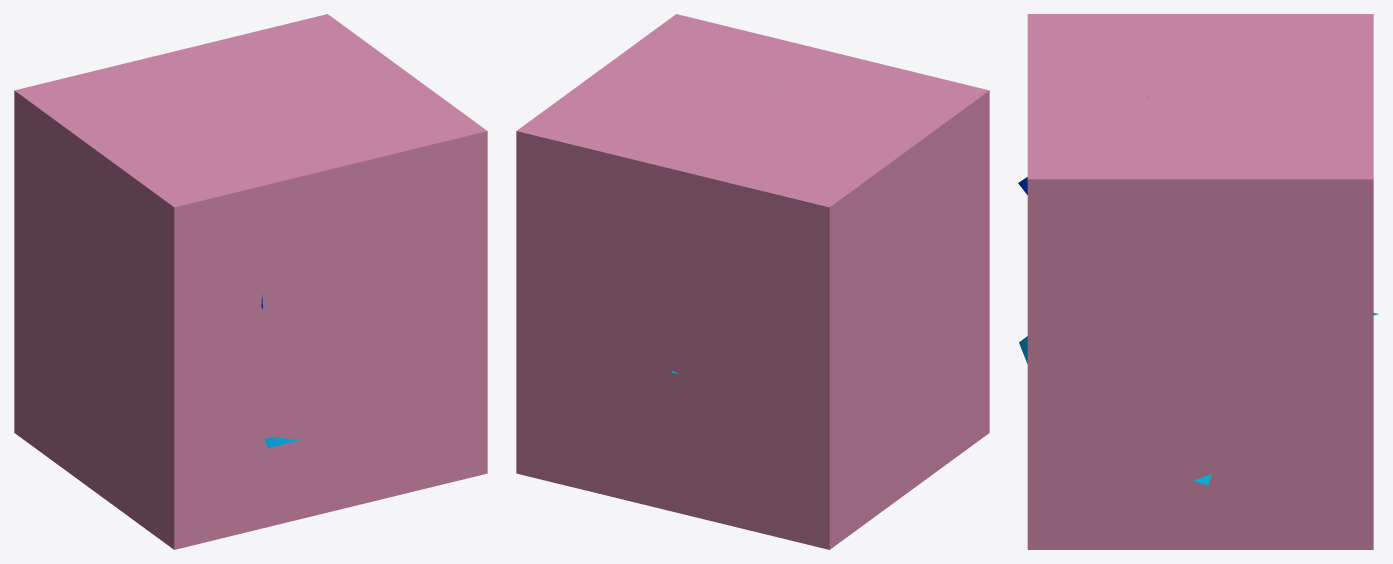
Rendered from tree_beech_bush_b.dae.
The picture shows the model from 3 angles, left to right: view 1: azimuth 30°, elevation 25°; view 2: azimuth 150°, elevation 25°; view 3: azimuth 270°, elevation 25°; orthographic projection. The views are drawn at different scales.
Parts seen in each view (by area): view 1: Untitled; view 2: Untitled; view 3: Untitled.
Boxes of the visible parts, <box> form: Untitled: <box>14,14,487,549</box>; Untitled: <box>516,14,989,549</box>; Untitled: <box>1027,14,1373,549</box>.
Bounding box in the file's own units: 2.1 × 1.91 × 2.18.
